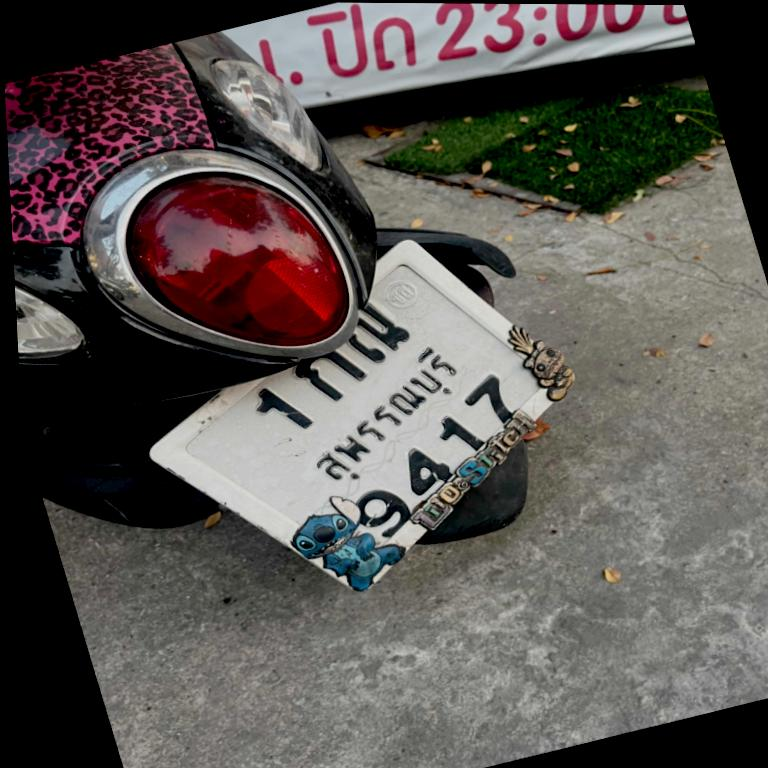license plate: (99, 202, 632, 634)
